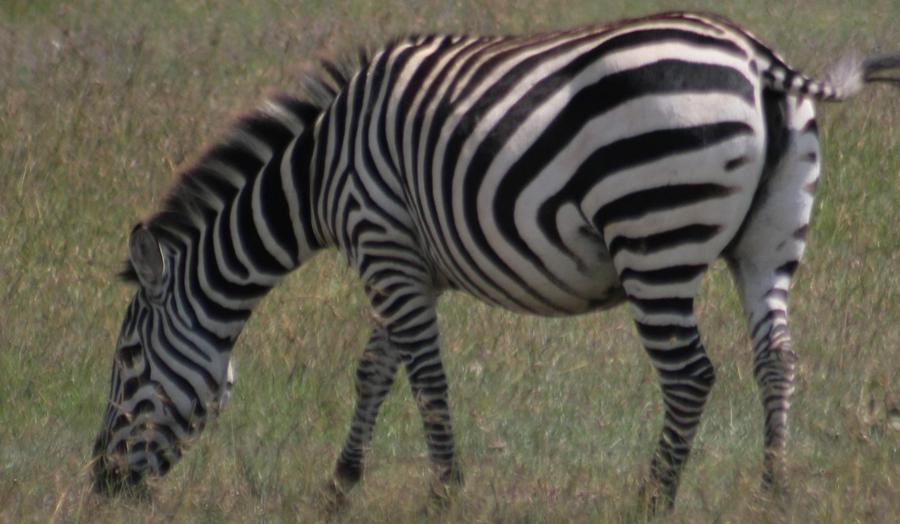zebra_plains: (310, 14, 743, 341)
